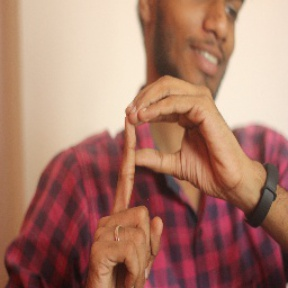P: (98, 79, 230, 255)
